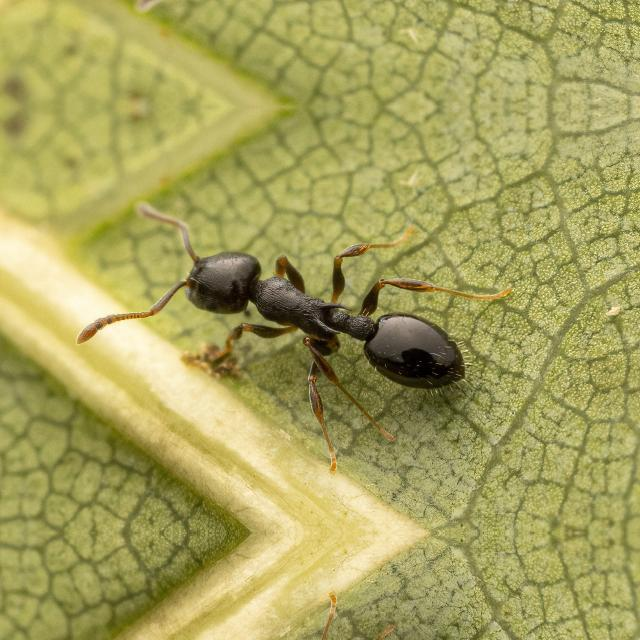Temnothorax: (139, 214, 526, 428)
